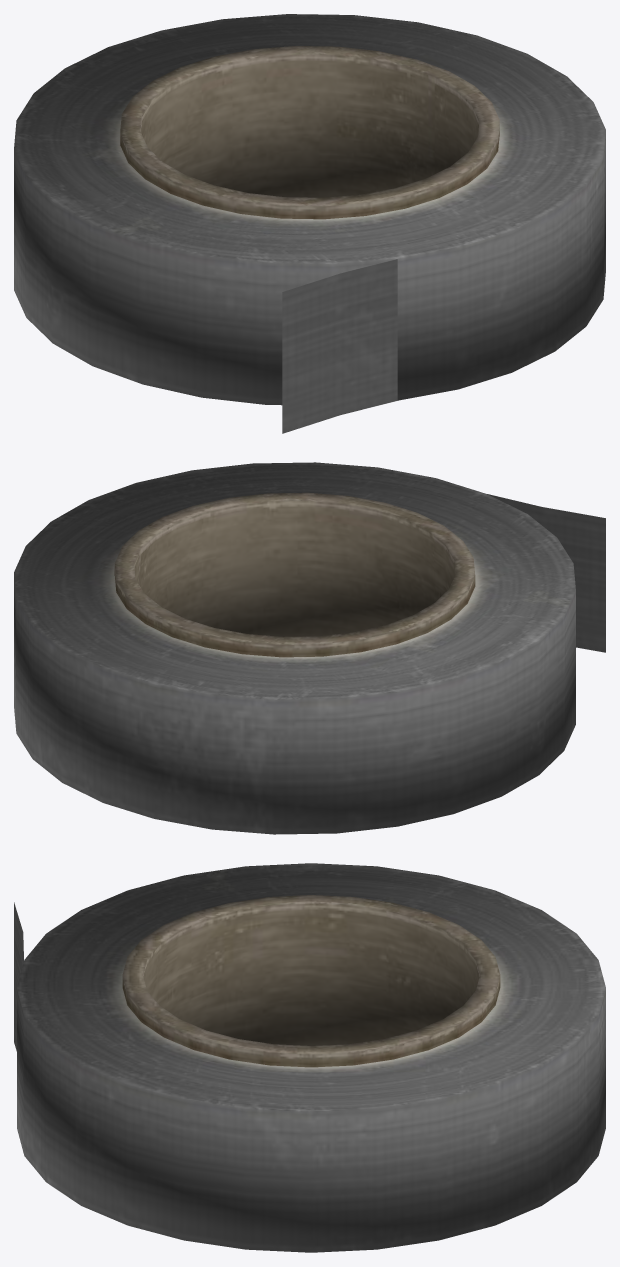
Rendered from Herr_cinta.obj.
The picture shows the model from 3 angles, top to bottom: view 1: azimuth 30°, elevation 25°; view 2: azimuth 150°, elevation 25°; view 3: azimuth 270°, elevation 25°; orthographic projection. The views are drawn at different scales.
Visible parts, largest first — view 1: Herr_cinta; view 2: Herr_cinta; view 3: Herr_cinta.
Boxes of the visible parts, <box> form: Herr_cinta: <box>14,14,605,433</box>; Herr_cinta: <box>14,462,605,834</box>; Herr_cinta: <box>14,863,605,1252</box>.
Size of the model in its own units: 0.0892 by 0.0278 by 0.0896.
Materials: 1 (1 with a texture image).
